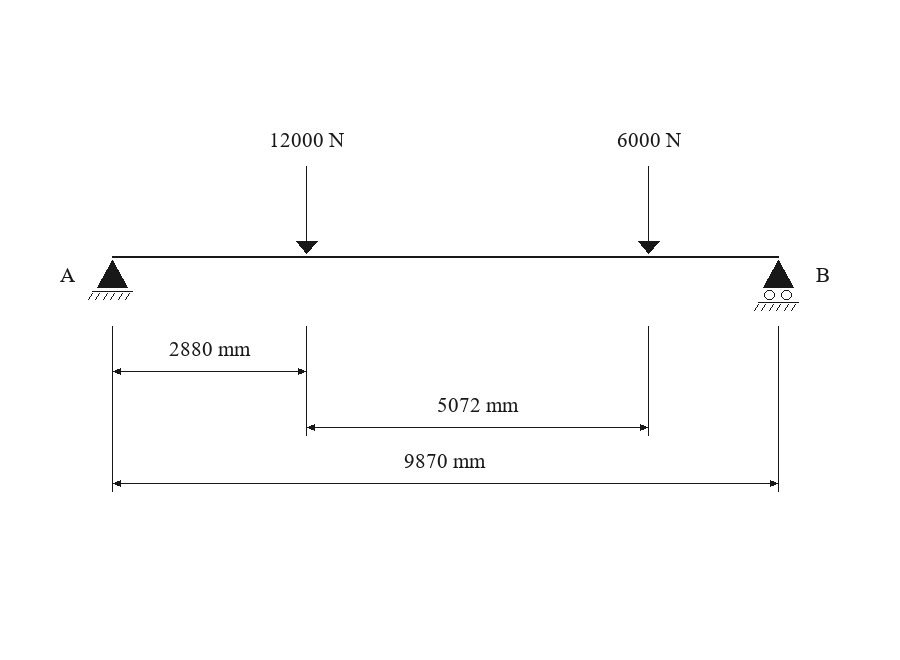pin_support: (88, 260, 133, 300)
point_load: (296, 166, 318, 254), (638, 166, 660, 254)
roller_support: (754, 260, 799, 311)
